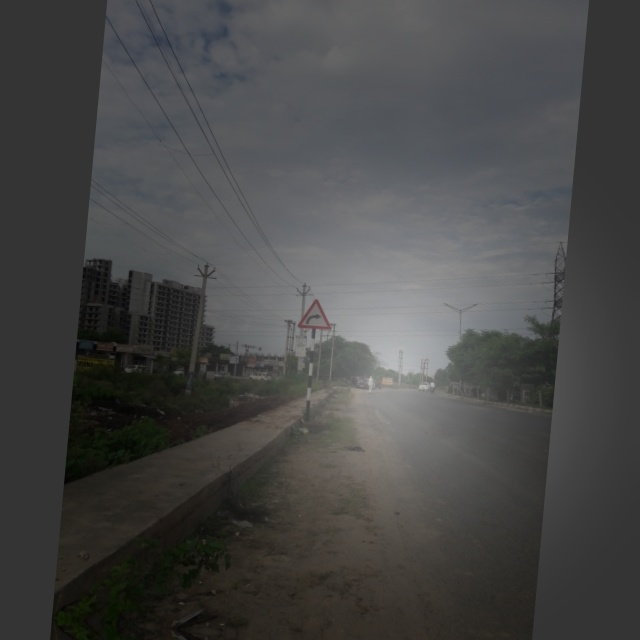Right_Hand_Curve: (296, 296, 334, 334)
